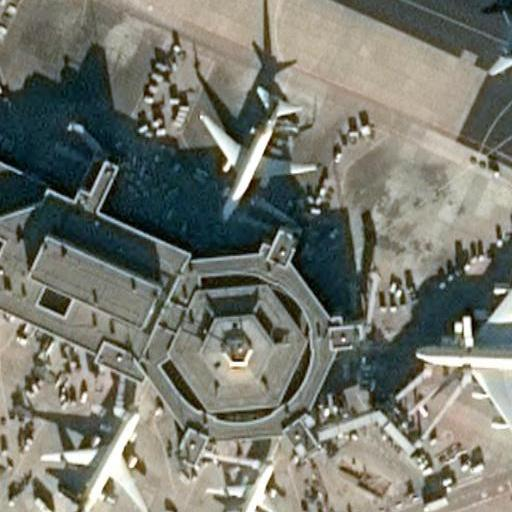Aircraft: (189, 82, 312, 217), (36, 396, 146, 512), (200, 448, 280, 512), (0, 310, 1, 464)
